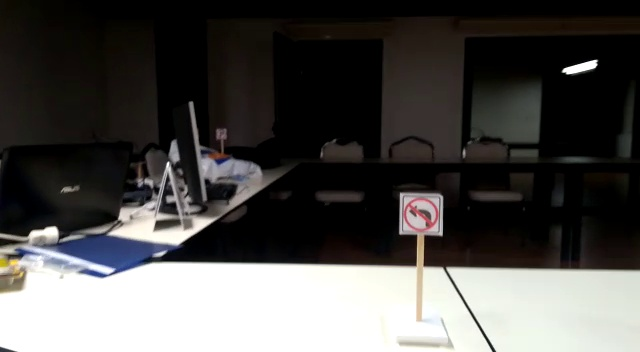sola_donulmez: (400, 192, 440, 233)
